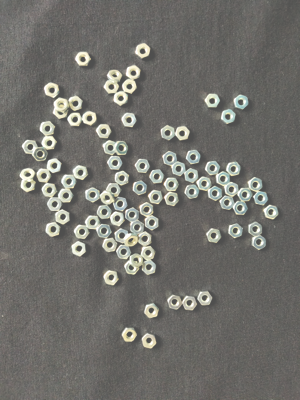nut: (44, 82, 60, 99), (135, 43, 151, 59), (233, 95, 250, 110), (32, 147, 49, 162), (76, 52, 92, 67), (104, 80, 120, 95), (161, 125, 176, 141), (122, 113, 138, 128), (54, 98, 70, 113), (67, 112, 83, 127), (40, 121, 56, 136), (97, 124, 113, 139), (107, 156, 123, 171), (163, 151, 178, 167), (172, 161, 187, 177), (185, 168, 200, 184), (205, 161, 221, 176), (226, 162, 242, 177), (216, 171, 231, 187), (219, 196, 235, 211), (248, 177, 263, 193), (206, 229, 222, 244), (73, 166, 89, 181), (42, 183, 58, 198), (113, 197, 129, 212), (46, 222, 61, 238), (74, 225, 90, 240), (102, 238, 118, 253), (141, 246, 157, 261), (104, 271, 120, 286), (142, 333, 157, 349), (22, 140, 39, 154), (106, 183, 123, 197), (221, 110, 236, 125), (114, 91, 129, 106), (83, 111, 98, 126), (186, 150, 201, 165), (47, 158, 62, 173), (165, 192, 180, 207), (208, 186, 223, 201), (225, 182, 240, 197), (254, 191, 269, 206), (265, 205, 280, 220), (229, 224, 244, 239), (115, 171, 130, 186), (133, 181, 148, 196), (149, 190, 164, 205), (37, 168, 52, 183), (110, 212, 125, 227), (56, 210, 71, 225), (97, 224, 112, 239), (72, 242, 87, 257), (114, 229, 129, 244), (117, 245, 132, 260), (198, 291, 213, 306), (183, 296, 198, 311), (168, 295, 183, 310), (205, 94, 221, 108), (41, 136, 57, 150), (135, 159, 151, 173), (164, 178, 180, 192), (237, 188, 253, 202), (233, 202, 249, 216), (20, 169, 36, 183), (62, 175, 78, 189), (58, 189, 74, 203), (47, 198, 63, 212), (86, 187, 100, 203), (85, 216, 101, 230), (124, 261, 140, 275), (145, 303, 159, 319), (123, 79, 137, 94), (176, 126, 190, 141), (69, 96, 83, 111), (53, 105, 68, 119), (114, 141, 129, 155), (185, 185, 200, 199), (197, 177, 212, 191), (249, 222, 263, 237), (252, 236, 267, 250), (150, 170, 165, 184), (100, 191, 115, 205), (140, 203, 154, 218), (126, 208, 140, 223), (131, 220, 145, 235), (97, 206, 112, 220), (138, 232, 152, 247), (124, 233, 139, 247), (130, 253, 144, 268), (143, 260, 157, 275), (122, 328, 137, 342), (104, 140, 117, 156), (127, 66, 141, 80), (108, 70, 123, 83), (21, 180, 36, 193), (146, 216, 159, 231)
